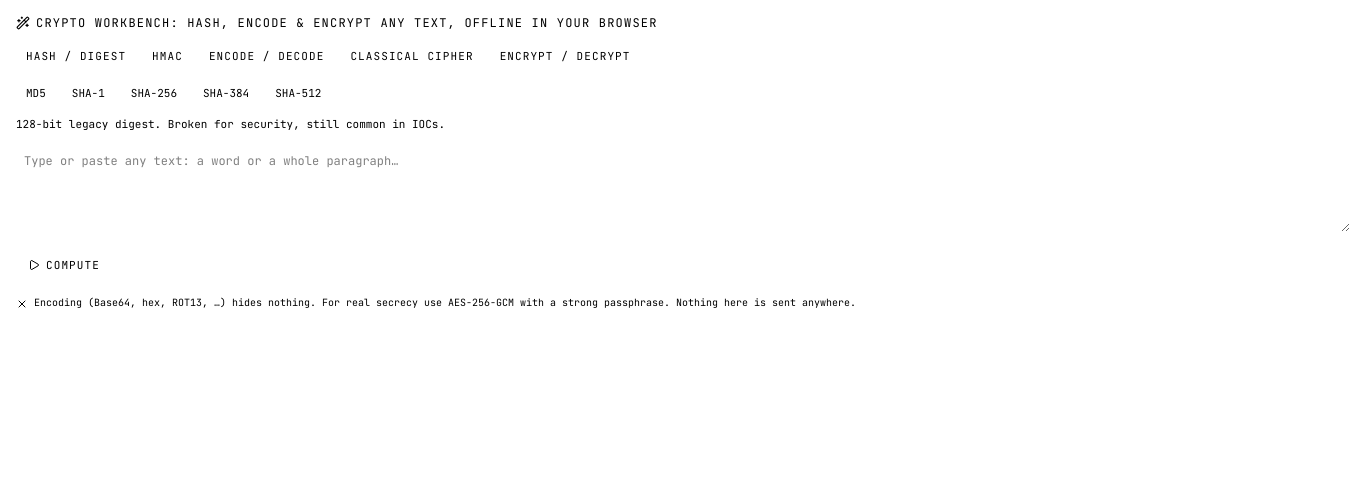
<CryptoWorkbench> encode/decode › encodes then decodes Base64 with the direction toggle
Click the tab "Encode / decode". click: (267, 56)
box: [199,44,334,68]
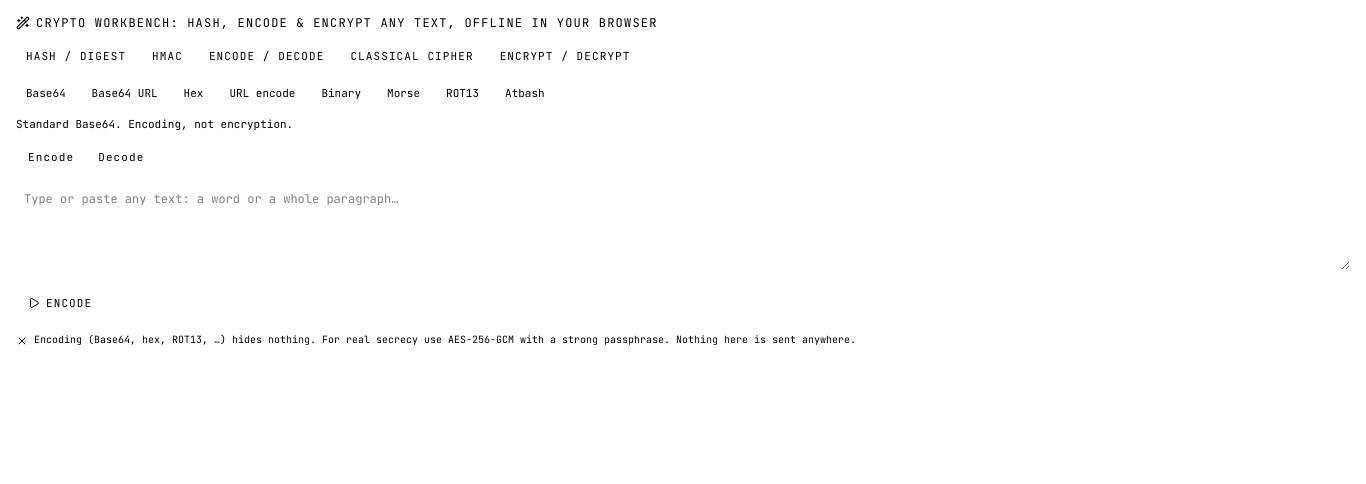
Type "hello" into the text box named "Input text". click: (683, 226)
box: [16,182,1350,270]
Click the 2nd button "Encode". click: (60, 303)
box: [16,289,104,317]
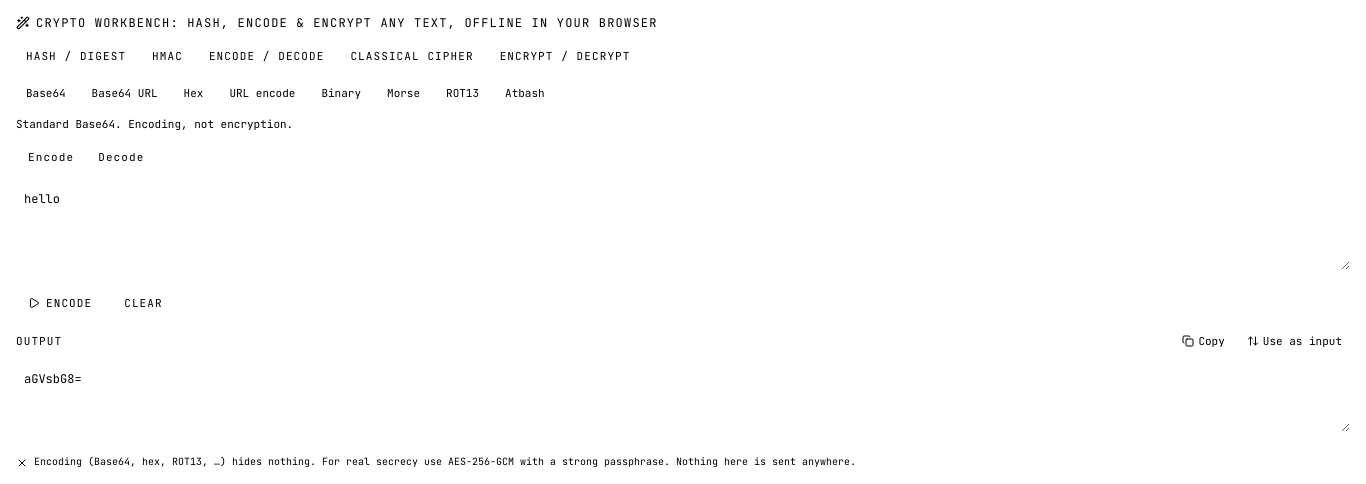
Expected: the text box named "Output" holds "aGVsbG8="
Focus the text box named "Output". click: (683, 397)
box: [16,362,1350,432]
Click the button "Decode". click: (121, 157)
box: [86,145,156,170]
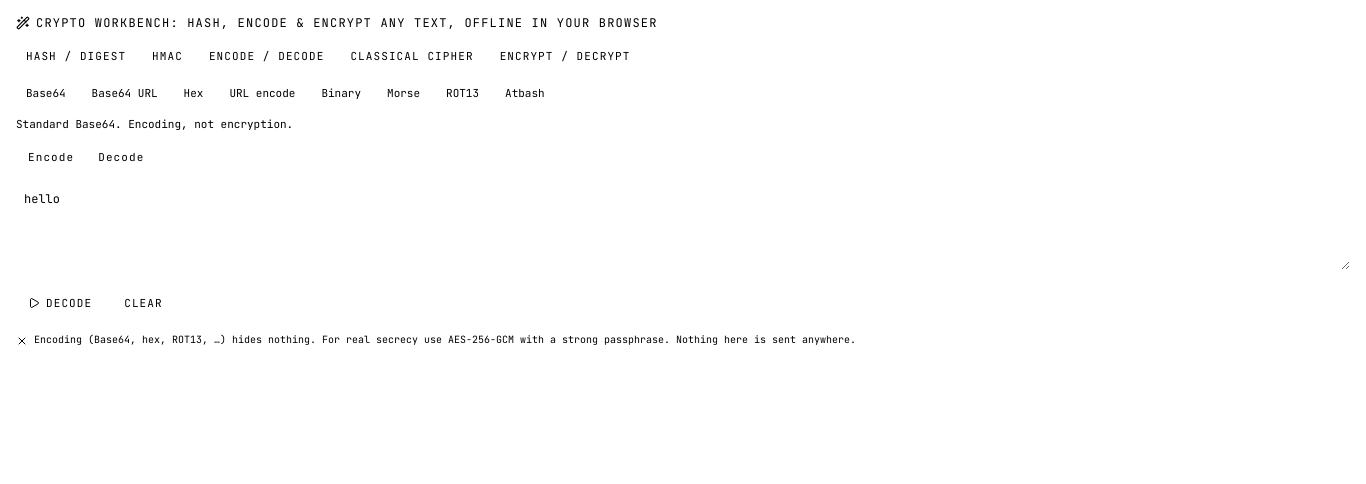
Replace the text in the text box named "Input text" with "aGVsbG8=". click: (683, 226)
box: [16,182,1350,270]
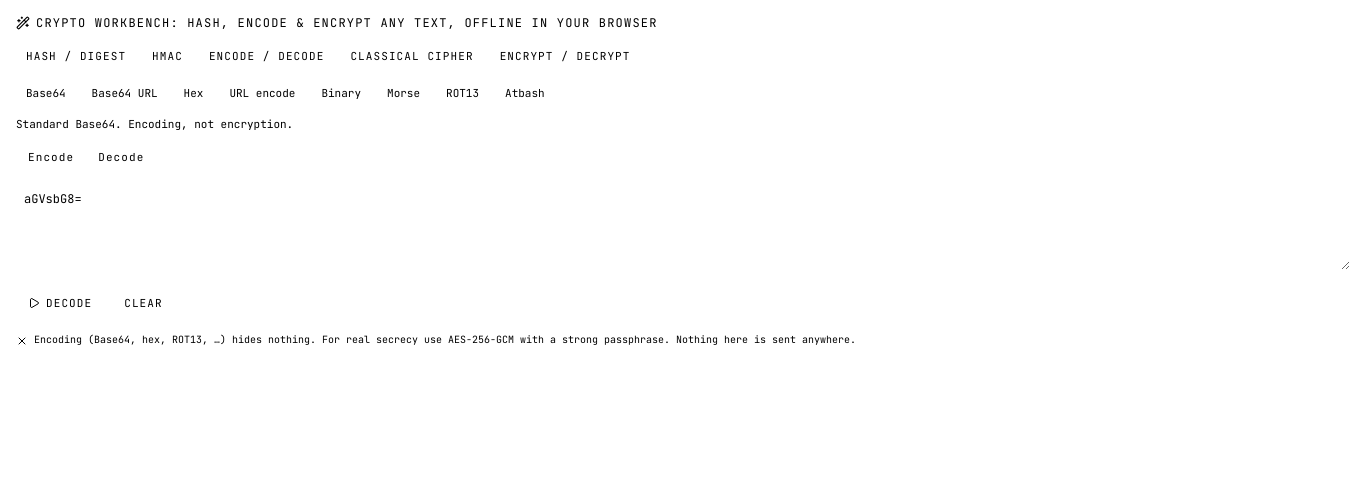
Click the 2nd button "Decode". click: (60, 303)
box: [16,289,104,317]
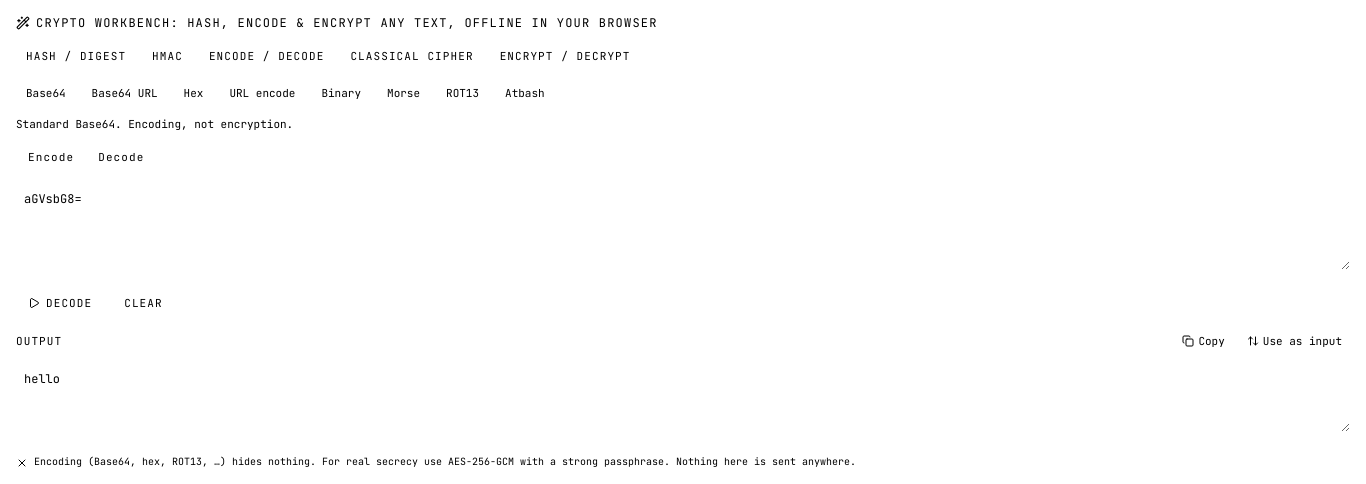
Expected: the text box named "Output" holds "hello", [16,362,1350,432]
Click the button "Encode". click: (51, 157)
box: [16,145,86,170]
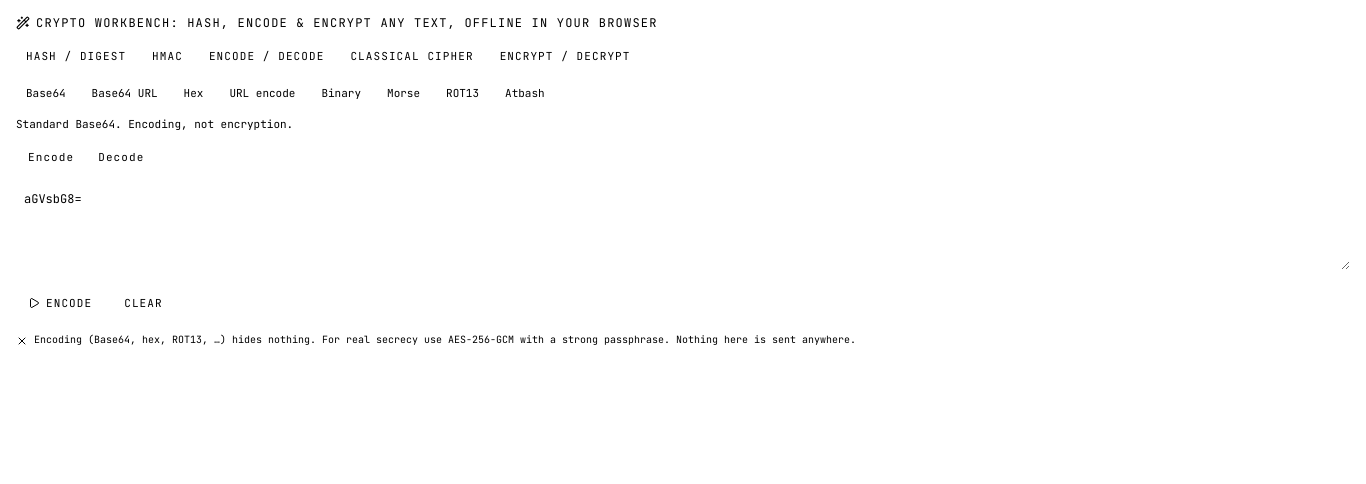
Expected: the text labelled "Output" is gone
